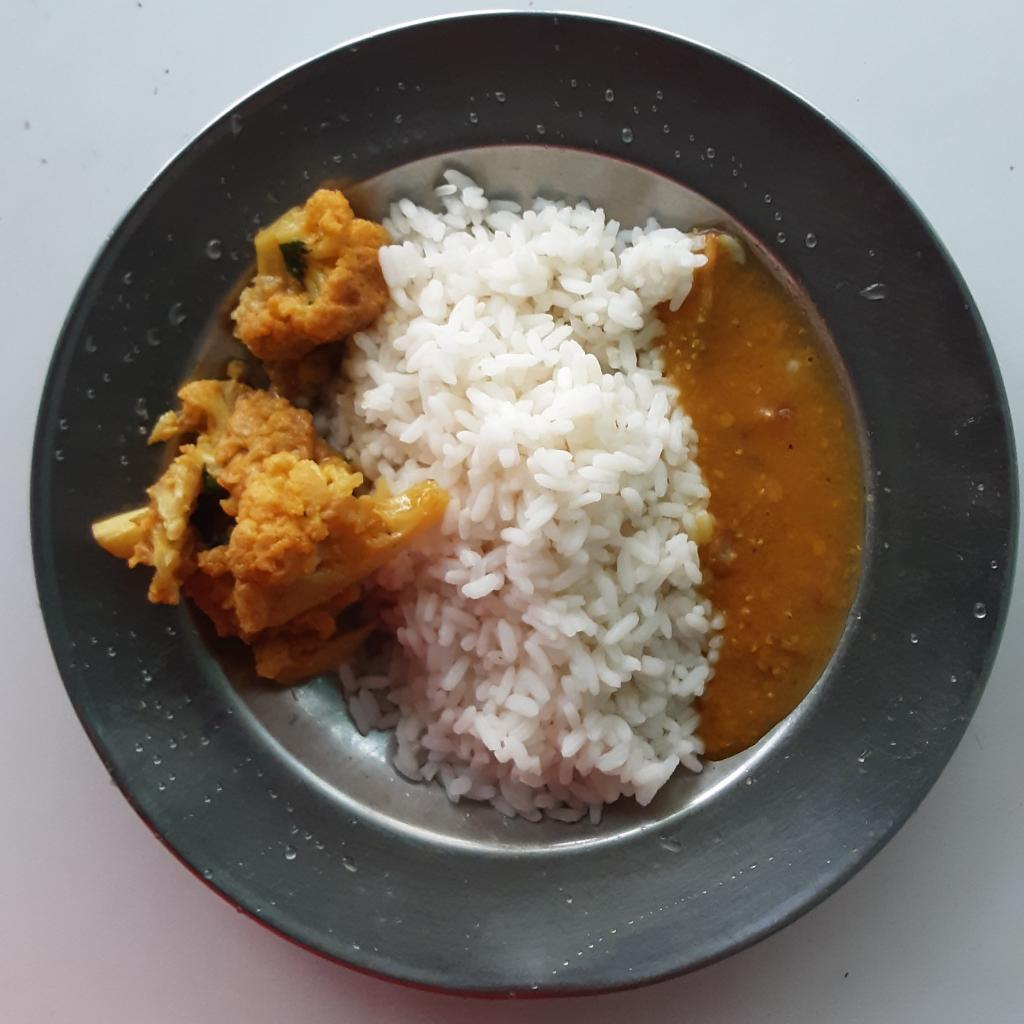cauliflower: (91, 351, 450, 685), (229, 185, 389, 369)
daal: (659, 240, 867, 757)
rice: (313, 168, 747, 828)
